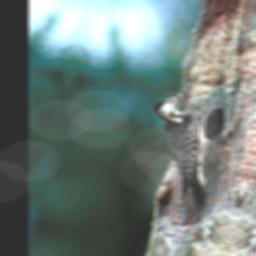Woodpecker: (127, 86, 232, 217)
